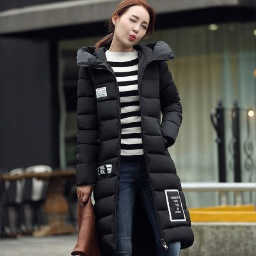face: (90, 1, 155, 55)
